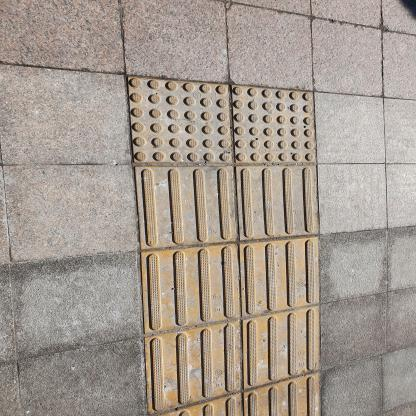podotacti: (115, 68, 337, 416)
